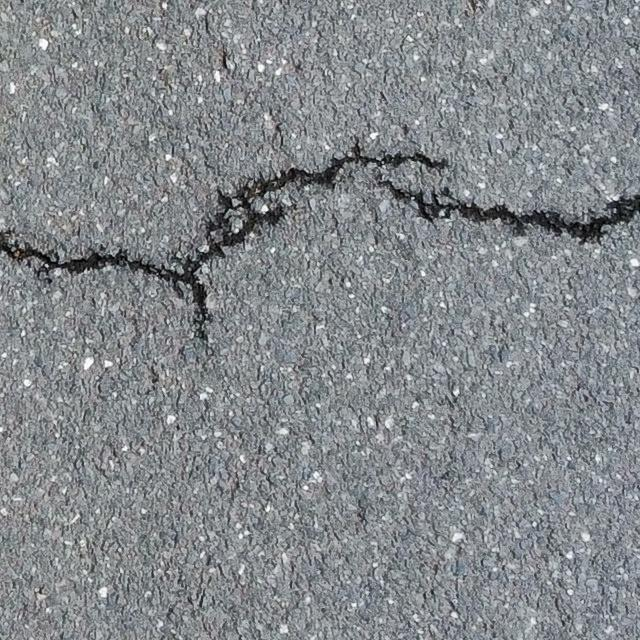TransverseCrack: (1, 136, 451, 331), (372, 169, 640, 246)
